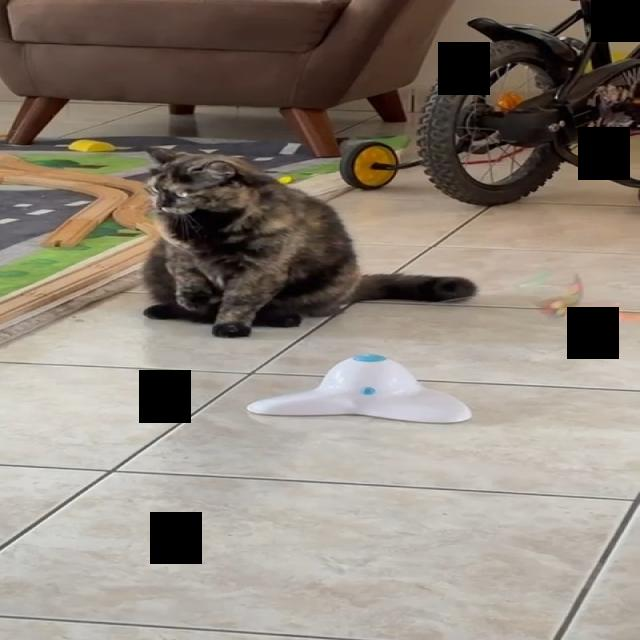authorized: (139, 146, 477, 338)
